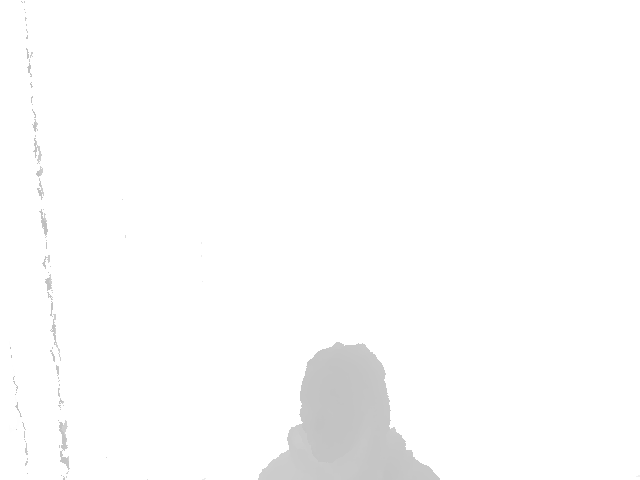head: (298, 343, 391, 467)
person: (256, 340, 441, 480)
